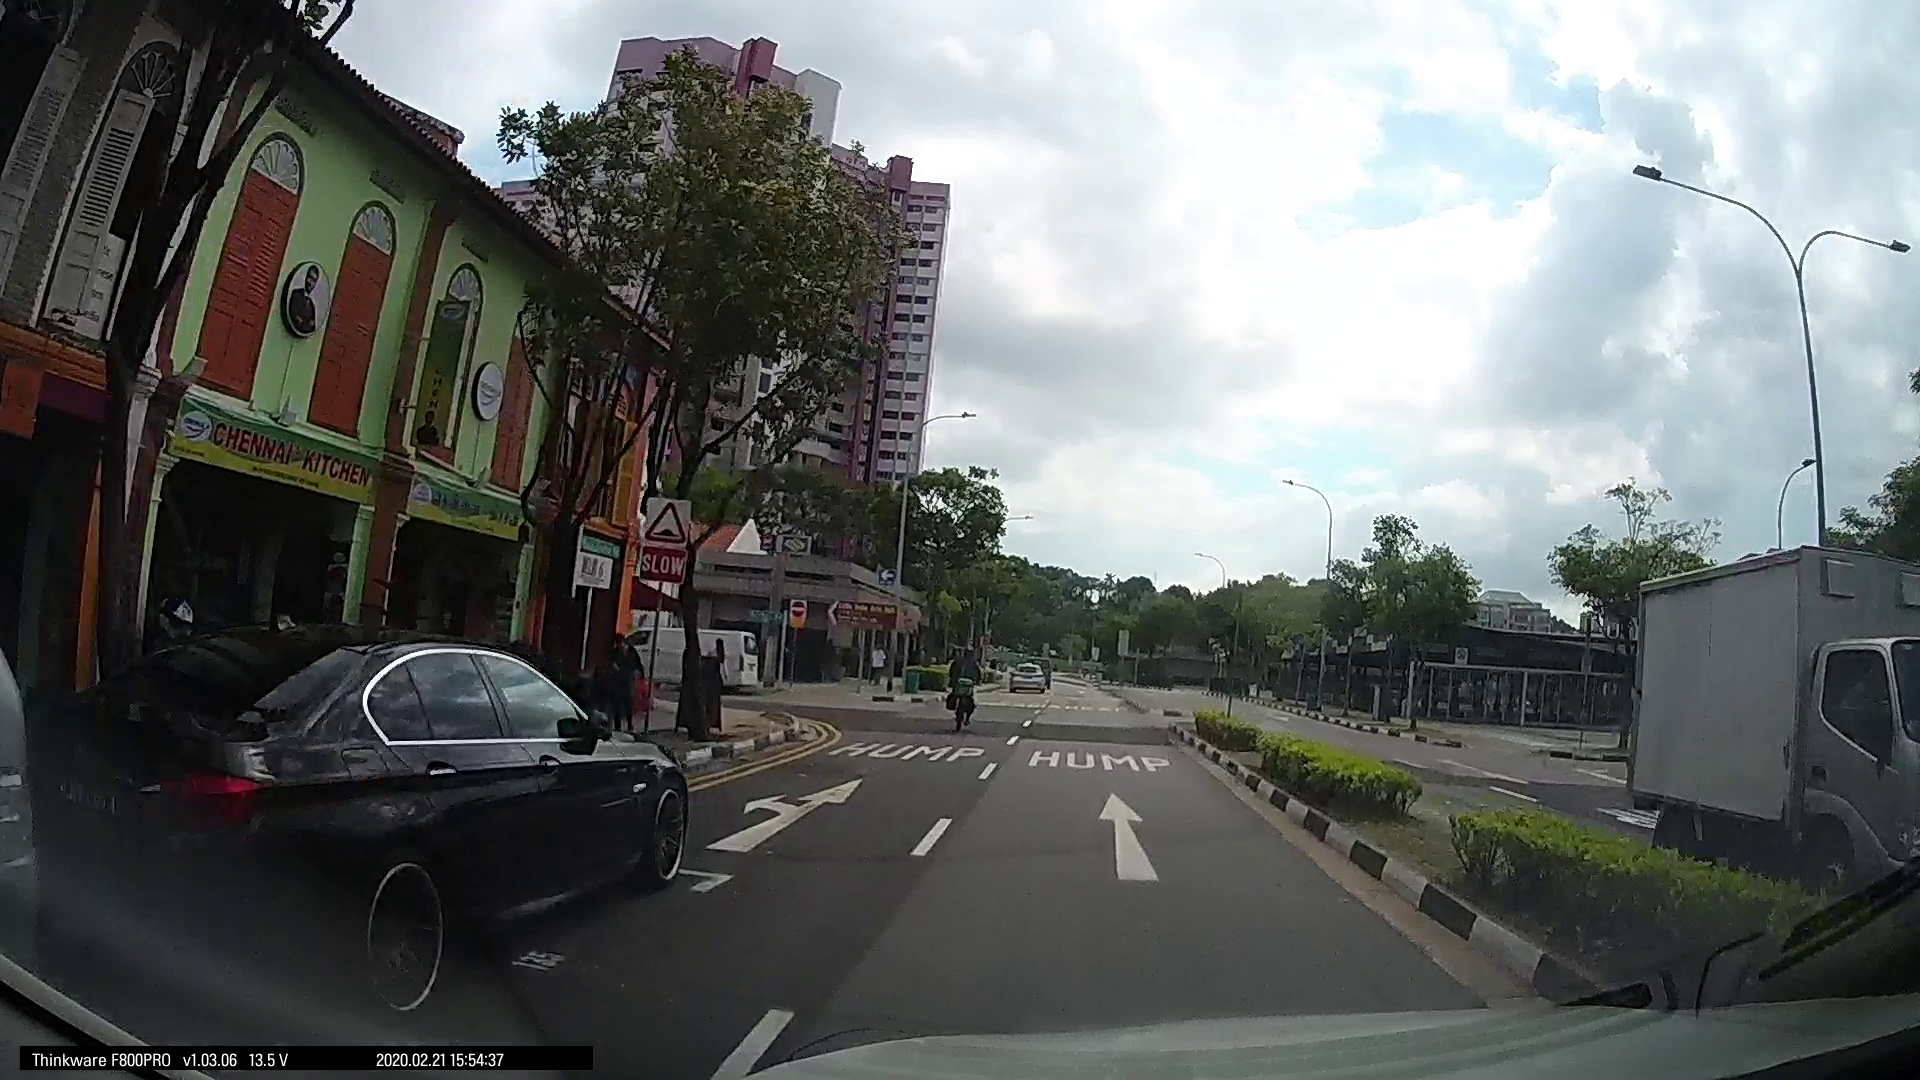Light Vehicle: (382, 645, 659, 791), (132, 605, 367, 760)
Motorcycle: (5, 583, 83, 754)
